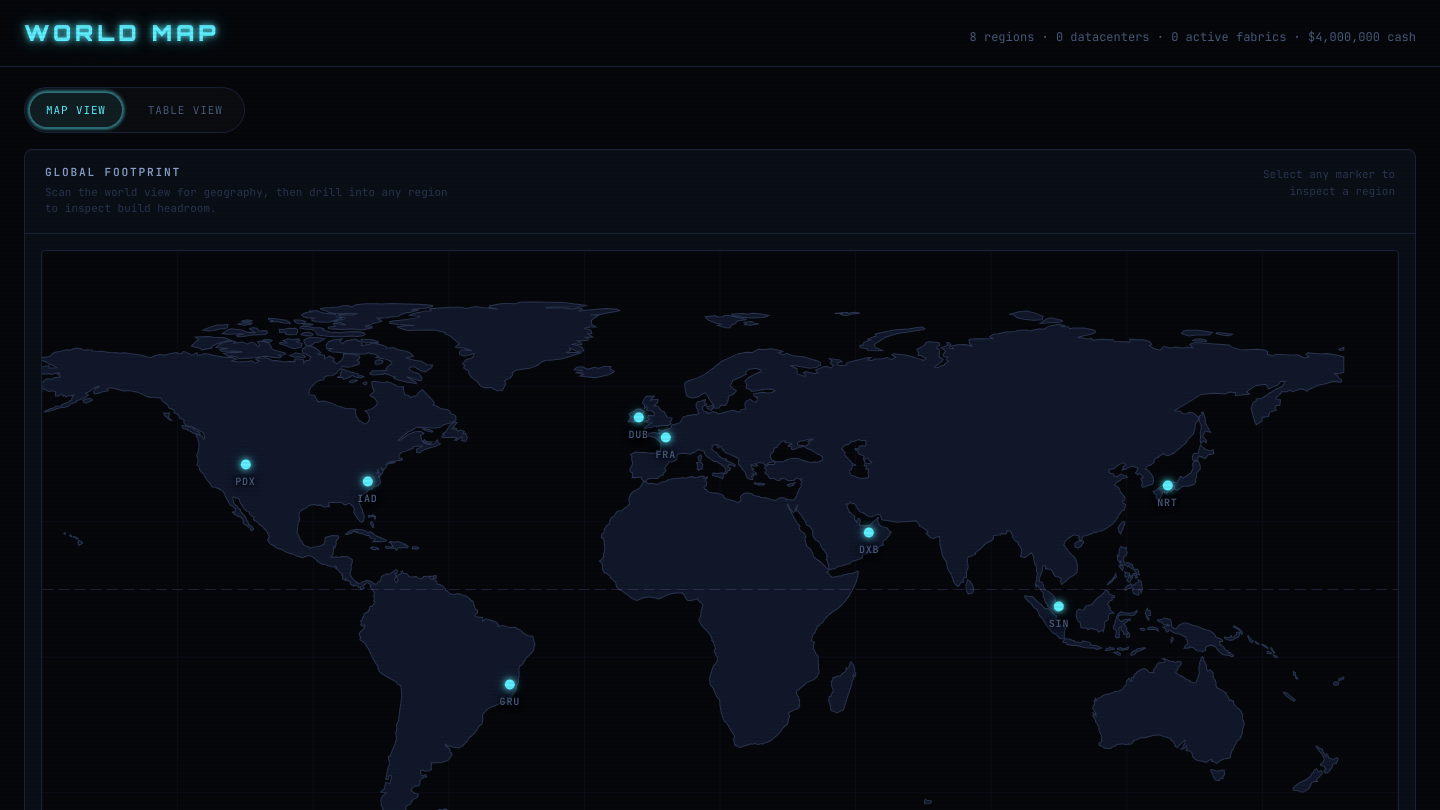
Scenario: MapView › defaults to the map tab and lets players switch to the sortable region table tab
Expected: the heading "GLOBAL FOOTPRINT" is shown, [45,165,181,179]
Expected: the button with aria-label "Select region marker IAD — Ashburn, US East" is shown, [353,473,382,510]
Click the tab "Table view": click(185, 110) [131,92,240,128]
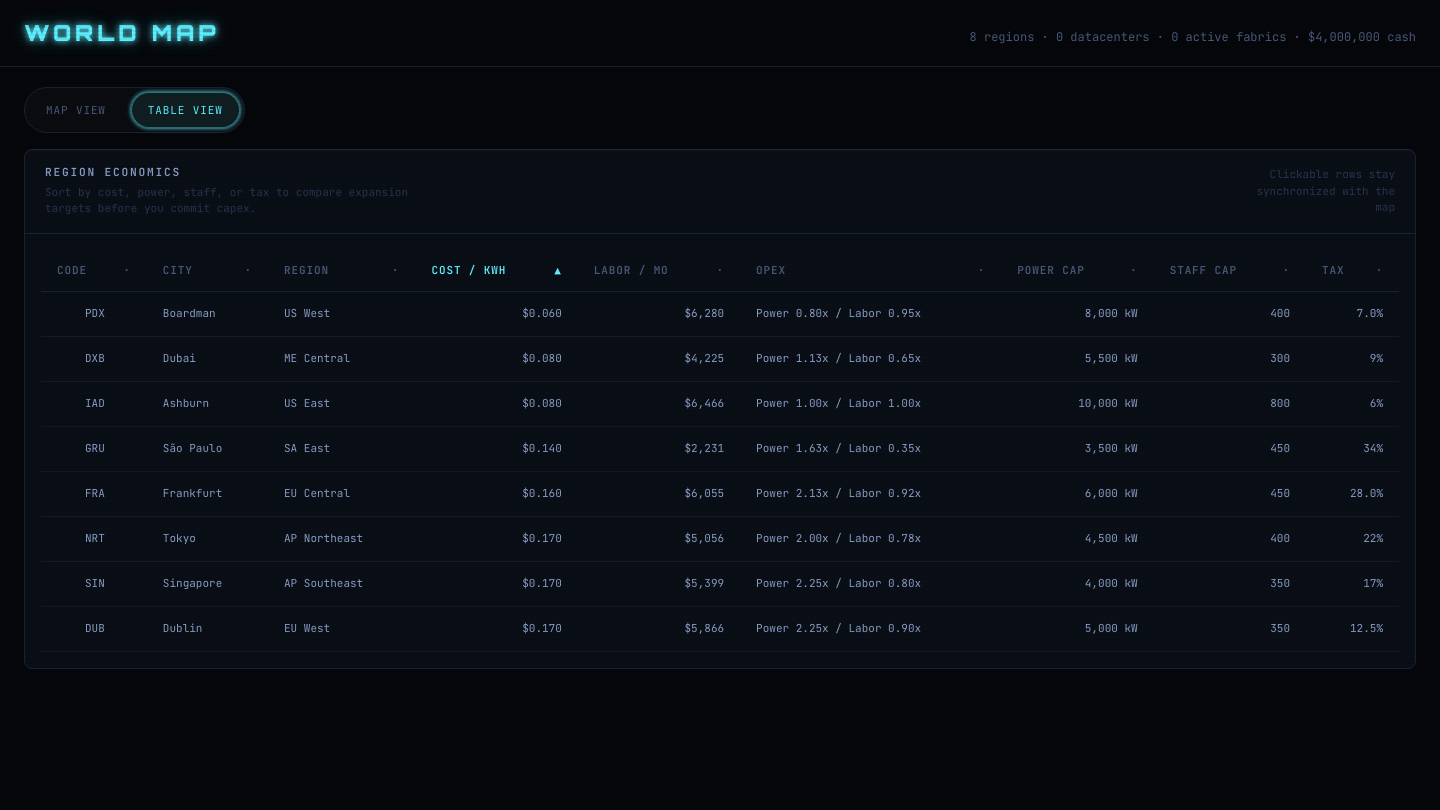
Result: the heading "REGION ECONOMICS" is shown at [45,165,181,179]
Result: the button with aria-label "Select region row IAD — Ashburn, US East" is shown at [41,382,1399,427]
